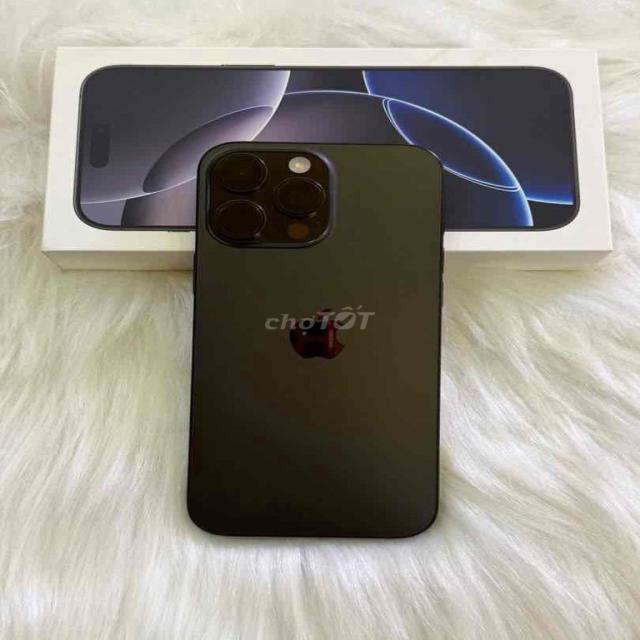gen_16: (165, 128, 476, 548)
